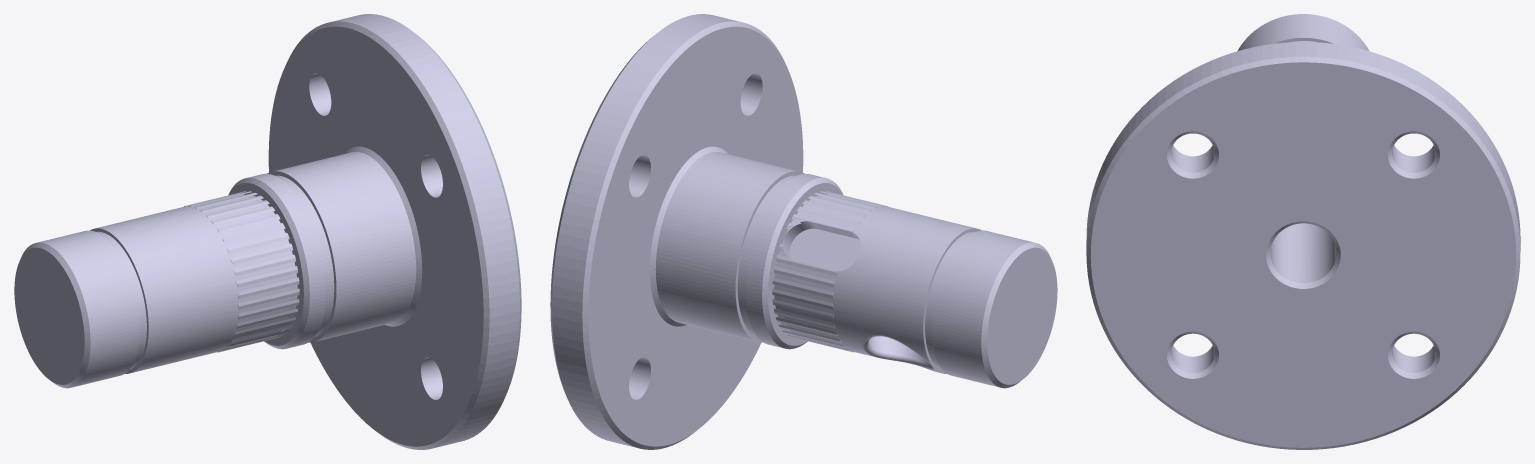
File: botwheel_centerpin001.dae
3 renders of one model, left to right at view 1: azimuth 30°, elevation 25°; view 2: azimuth 150°, elevation 25°; view 3: azimuth 270°, elevation 25°, orthographic.
Visible parts, largest first — view 1: node0; view 2: node0; view 3: node0.
Boxes of the visible parts, <box> form: node0: <box>14,14,521,449</box>; node0: <box>550,14,1057,449</box>; node0: <box>1086,14,1520,449</box>.
Bounding box in the file's own units: 0.048 × 0.05 × 0.05.
